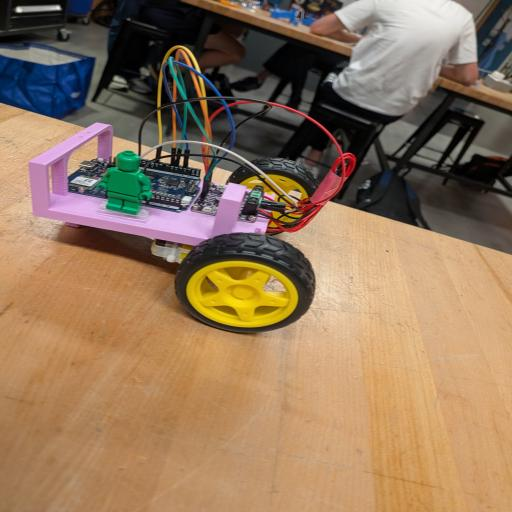Minifig: (97, 151, 152, 215)
